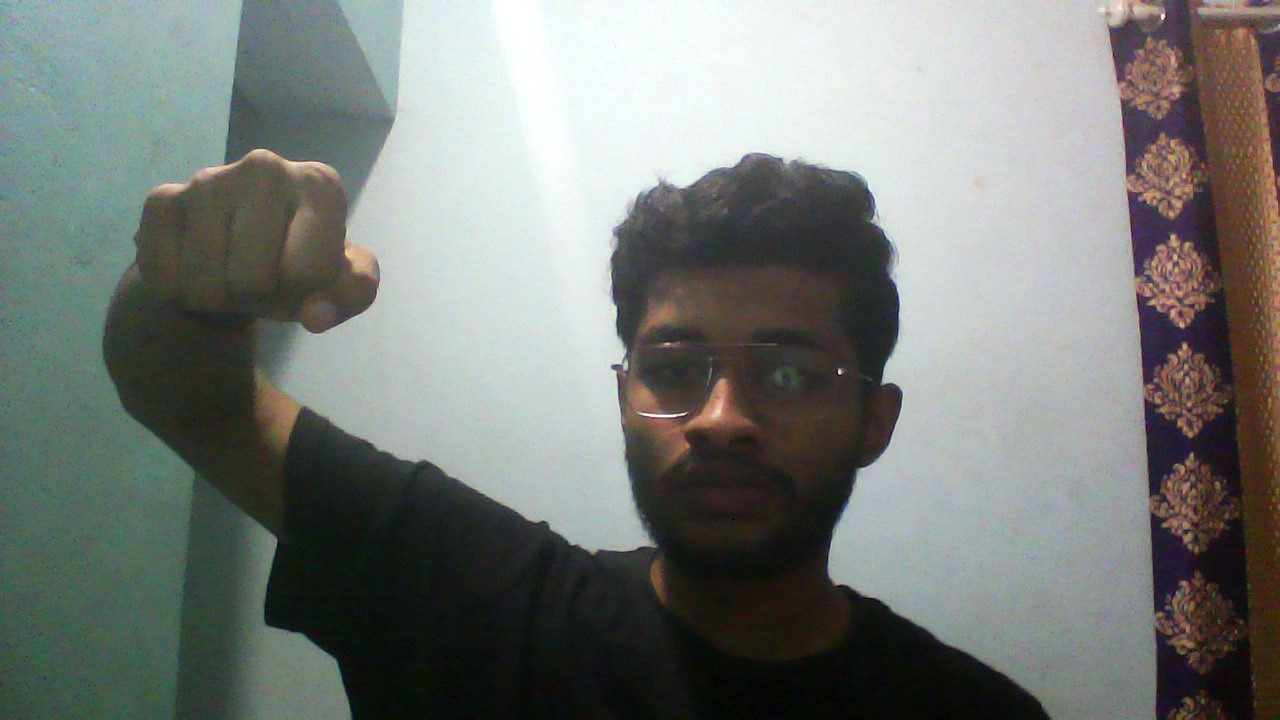Yes: (83, 123, 400, 356)
